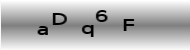6: (95, 9, 108, 22)
D: (51, 11, 67, 26)
F: (123, 18, 134, 32)
a: (36, 25, 48, 36)
q: (81, 23, 94, 37)
